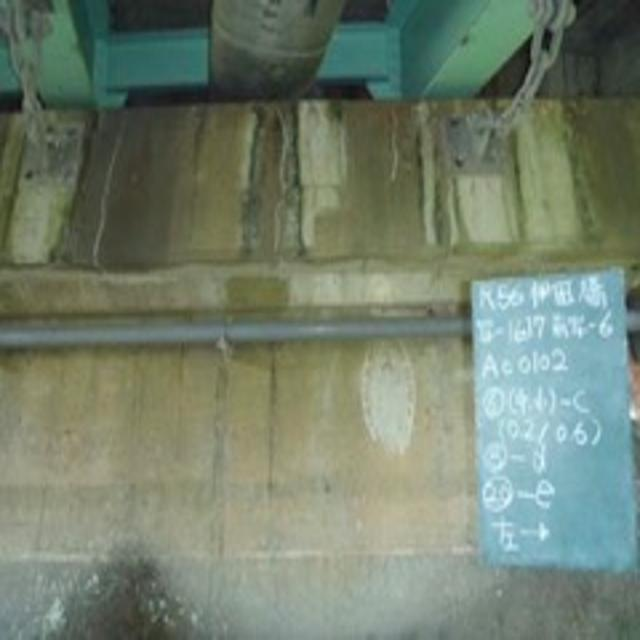leakage: (55, 100, 640, 262)
